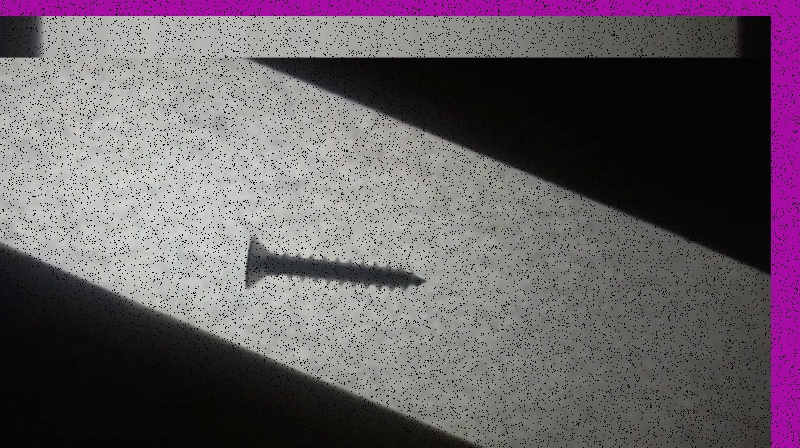S001: (241, 234, 432, 294)
